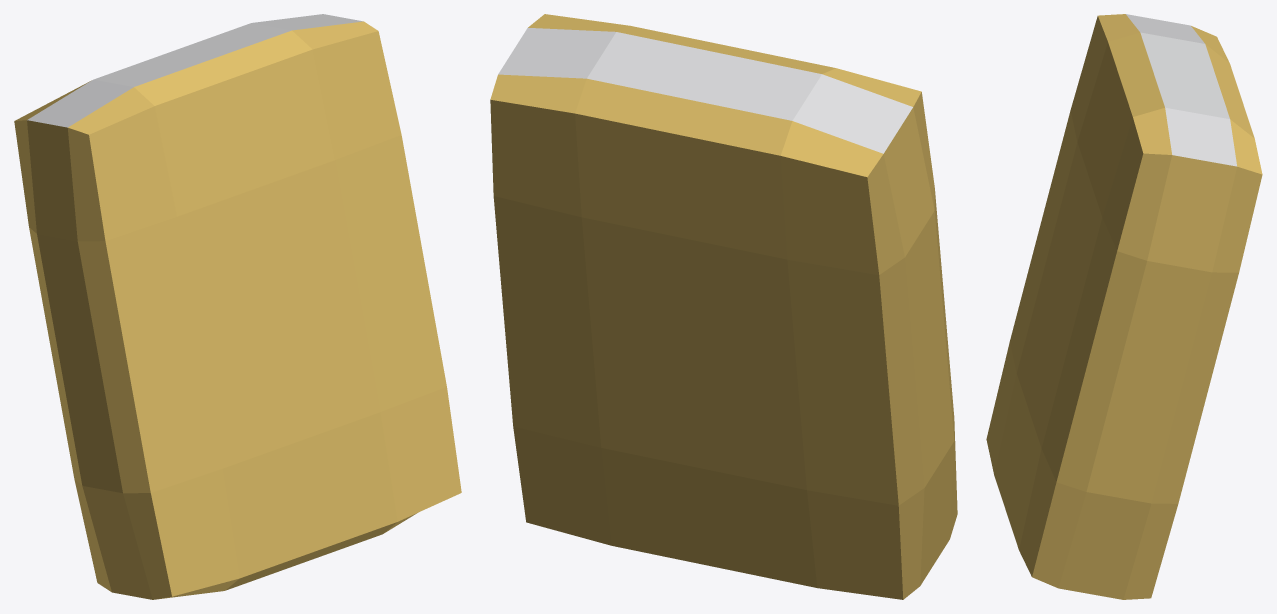
Rendered from f-flower.fbx.
3 views of the same model, side by side, from view 1: azimuth 30°, elevation 25°; view 2: azimuth 150°, elevation 25°; view 3: azimuth 270°, elevation 25° (orthographic). The views are drawn at different scales.
Parts seen in each view (by area): view 1: Chushion.217; view 2: Chushion.217; view 3: Chushion.217.
Part boxes in pixels (x1=…): Chushion.217: x1=14, y1=14, x2=461, y2=599; Chushion.217: x1=490, y1=14, x2=957, y2=599; Chushion.217: x1=986, y1=14, x2=1262, y2=599.
Size of the model in its own units: 39.8 by 50.91 by 27.14.
